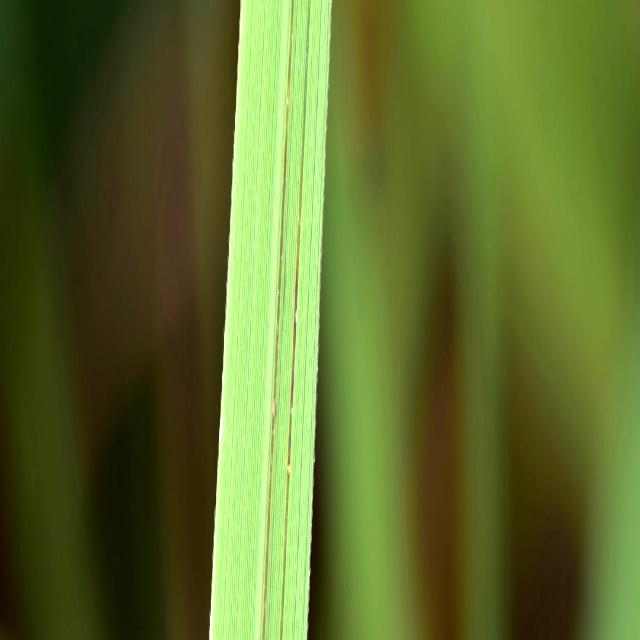BLS: (262, 0, 294, 637), (280, 0, 311, 638)
